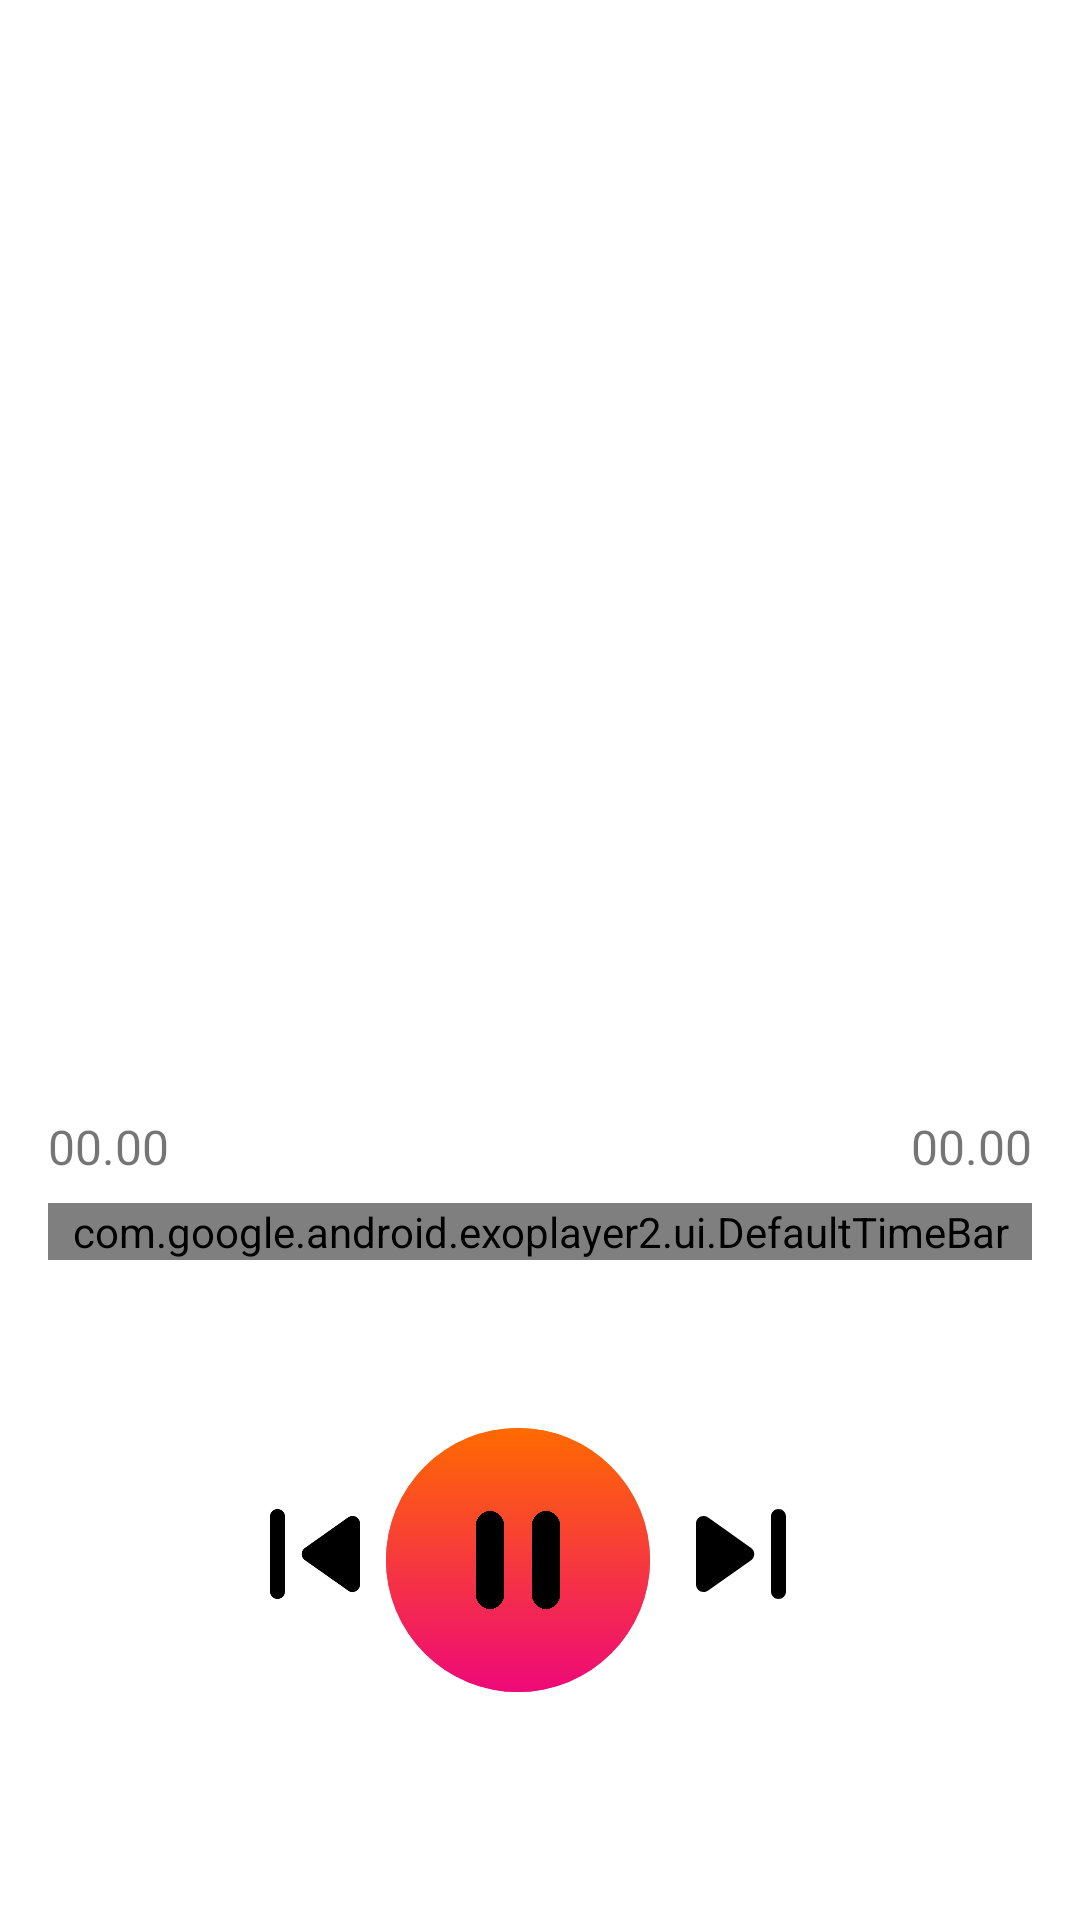

Point at icon controls on the screen. Image size 1080 × 1920, points as [x,y].
next: [741,1554]
prev: [315,1554]
